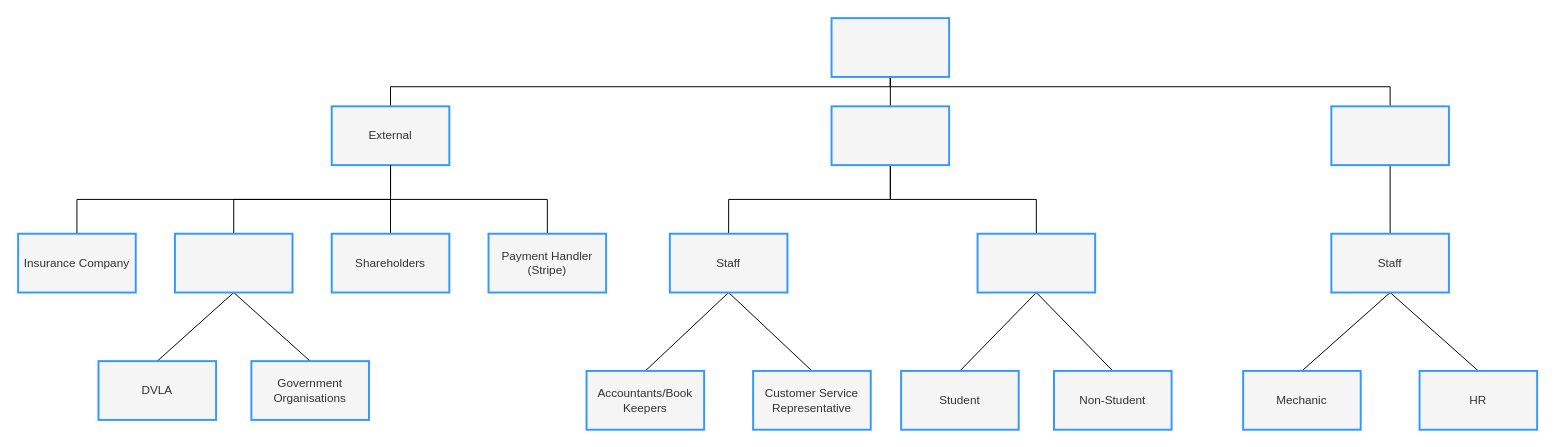
The diagram is 1554 pixels wide and 447 high, and some of its shapes have lost their labels. Here are the shapes that lost their labels. From the top down, the centre of each, then its label:
At (x=890, y=47): "ViewPoints".
At (x=890, y=135): "Interactors".
At (x=1389, y=135): "Indirect".
At (x=233, y=262): "Authorities".
At (x=1036, y=262): "Customer".
